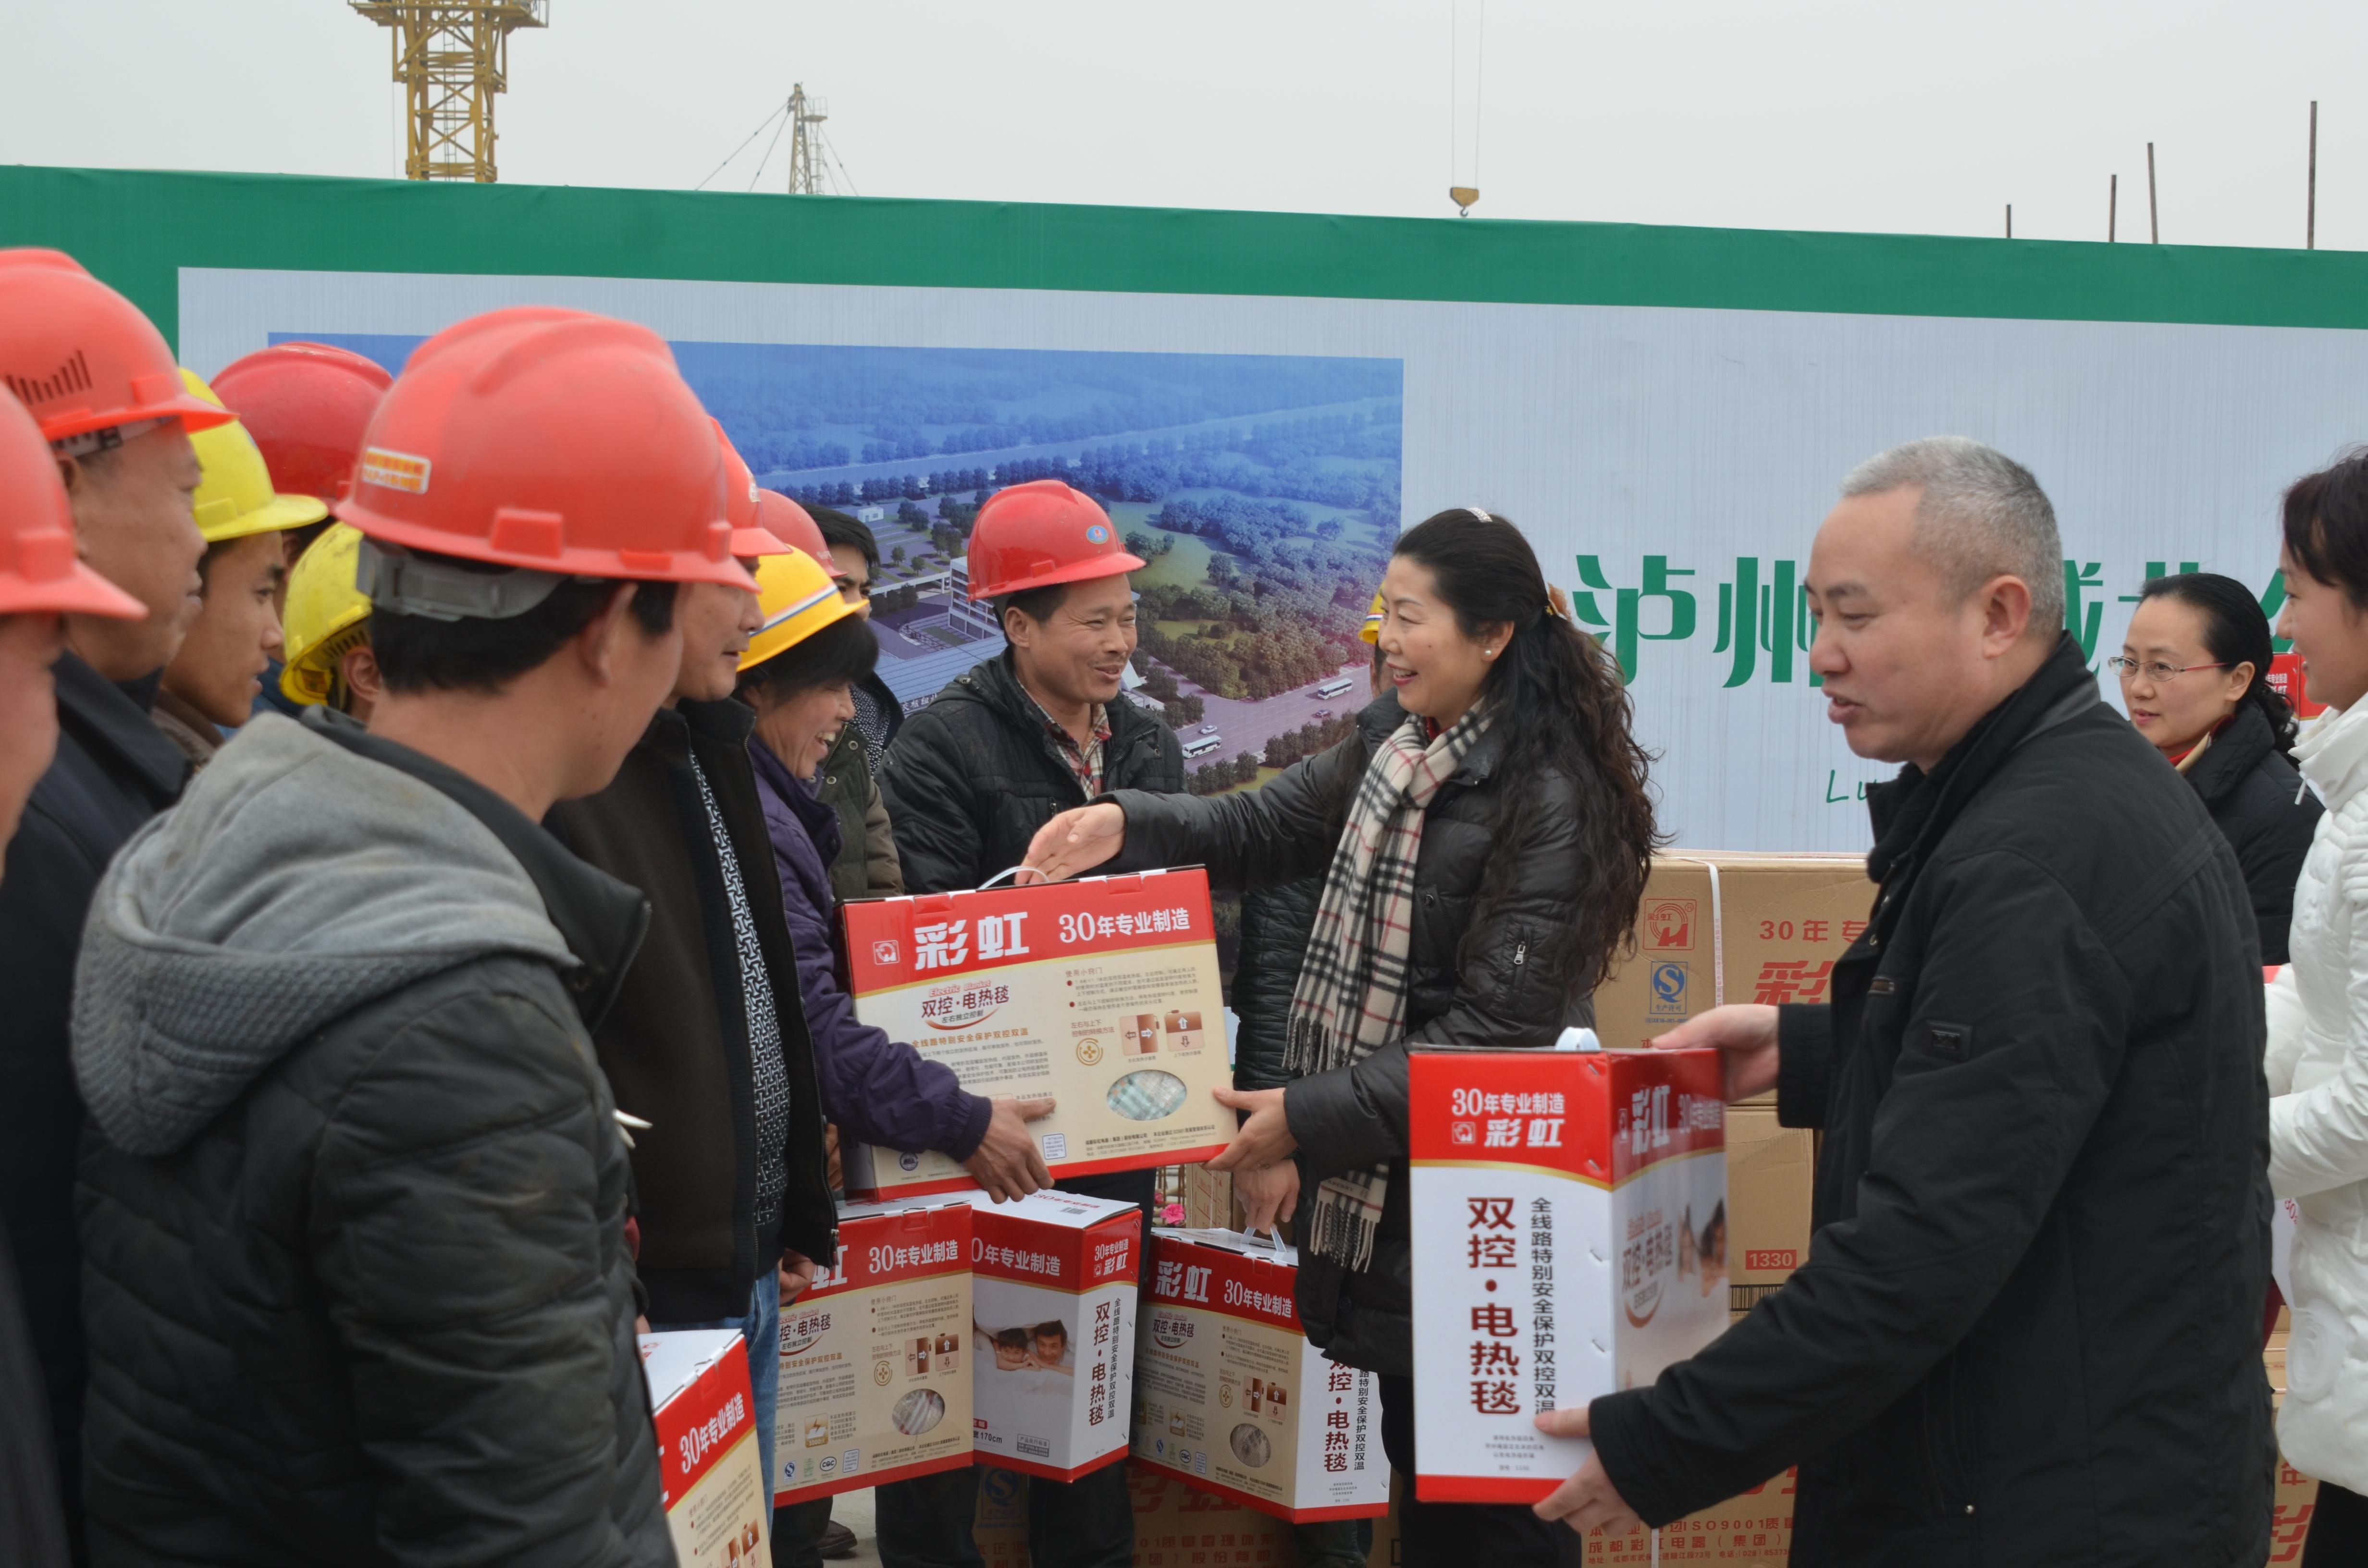helmet: (340, 306, 765, 604), (0, 243, 236, 437), (0, 380, 151, 621), (210, 338, 396, 501), (170, 366, 331, 546), (970, 479, 1148, 607), (744, 544, 866, 672)
